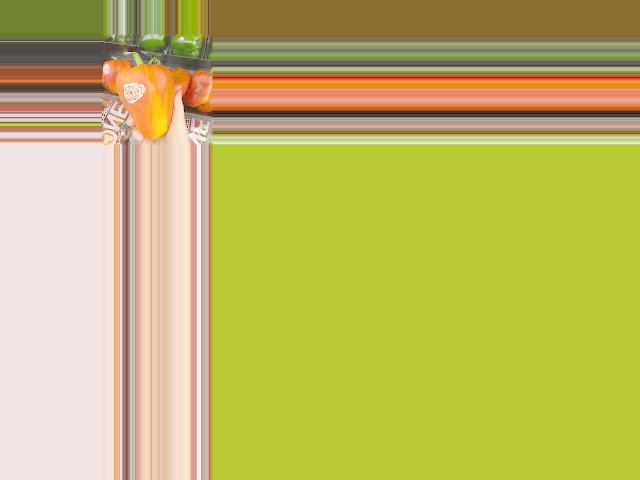bell_pepper: (114, 50, 180, 138)
